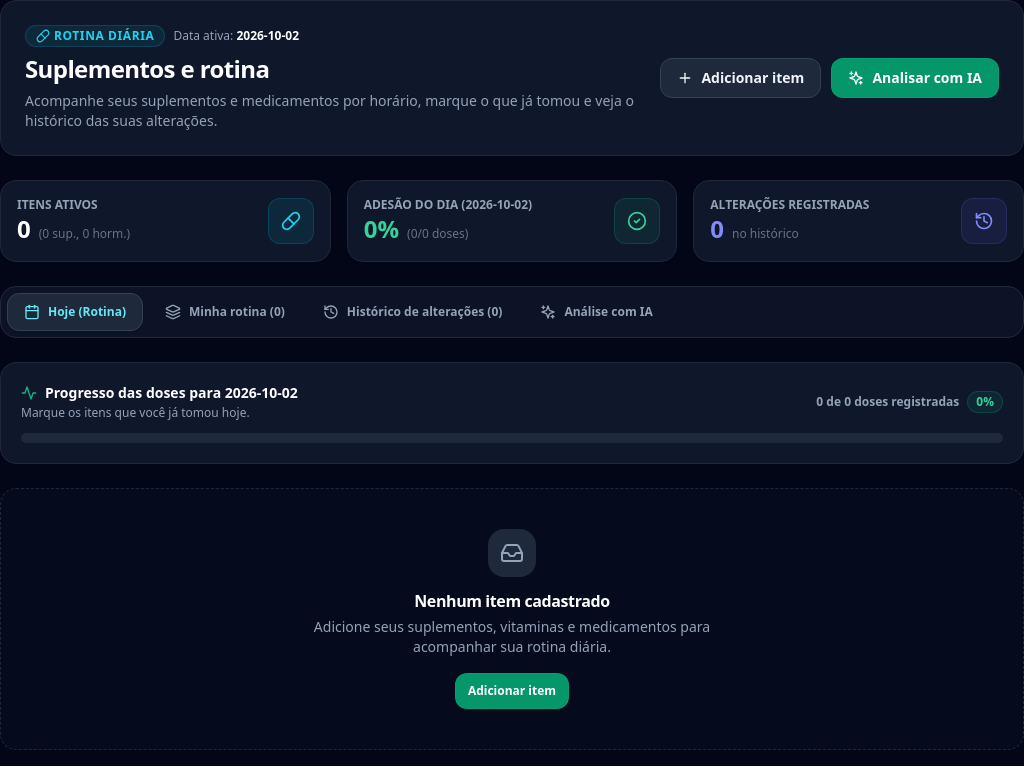
SupplementsView (UX-P1-19) › switches to Minha rotina tab, filters by category and search term
Click the button "Minha rotina (0)": (225, 312) [149,294,301,330]
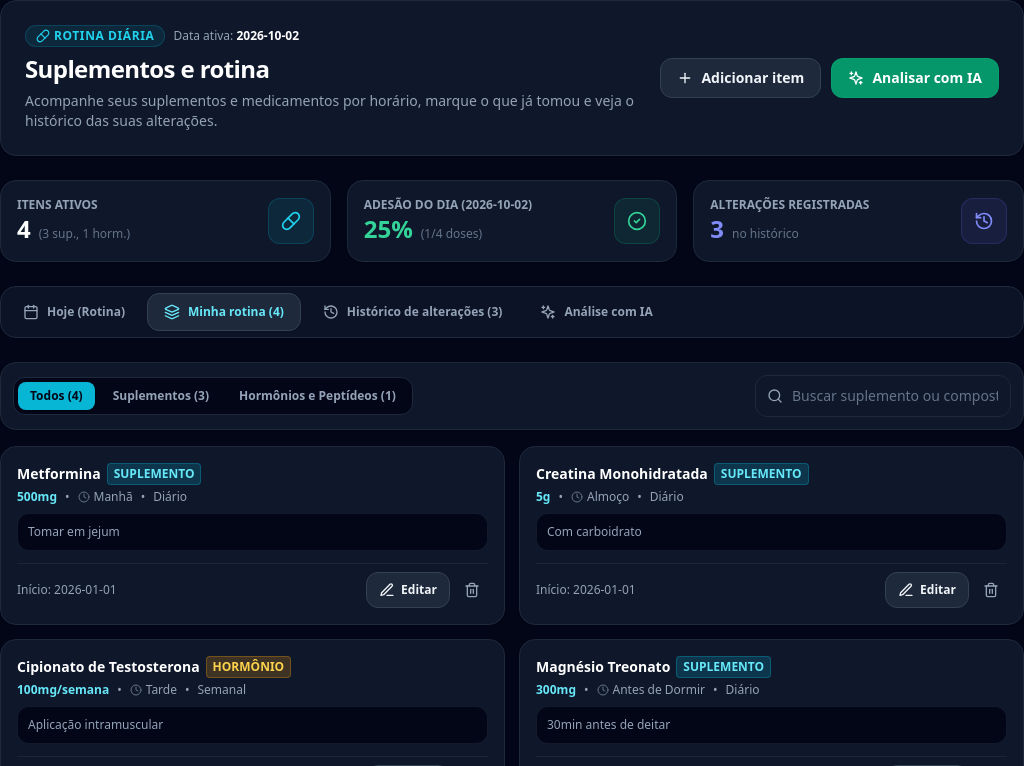
Expected: the field with placeholder "Buscar suplemento ou composto..." is shown, [755,375,1011,417]
Expected: the heading "Metformina" is shown, [17,464,101,484]
Expected: the heading "Cipionato de Testosterona" is shown, [17,657,200,677]
Filter by Hormônio
Click the button "Hormônios e Peptídeos (1)": (317, 396) [227,382,408,410]
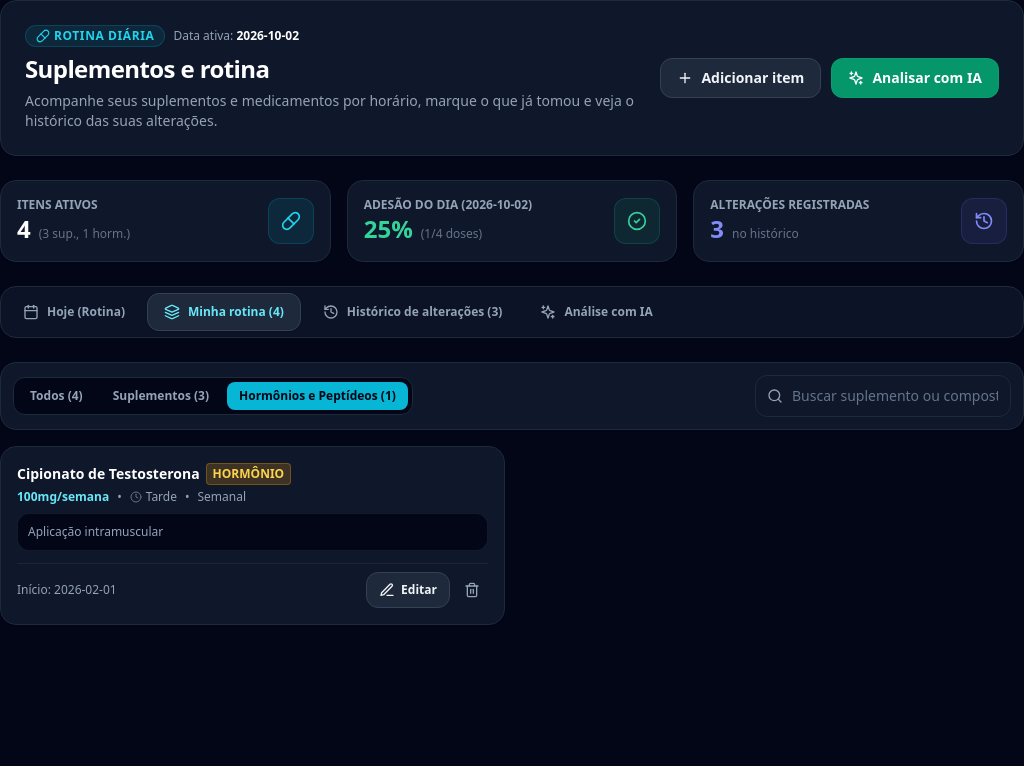
Expected: the heading "Cipionato de Testosterona" is shown, [17,464,200,484]
Expected: the heading "Metformina" is gone
Filter by search
Click the button "Todos (4)": (56, 396) [18,382,95,410]
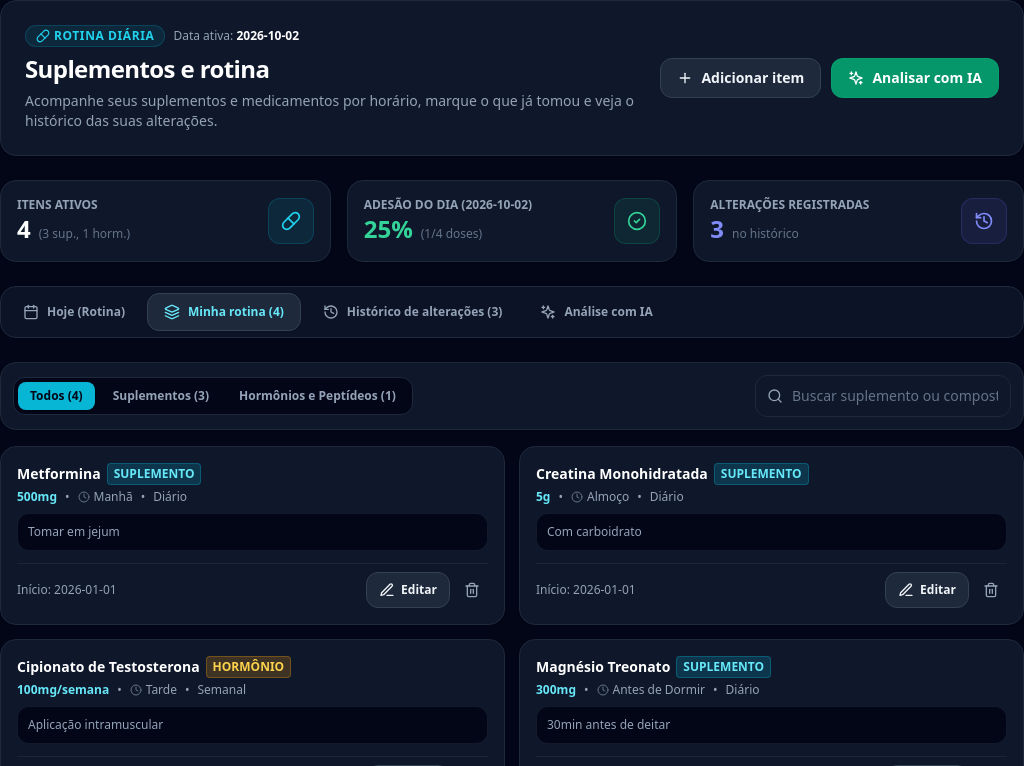
In the field with placeholder "Buscar suplemento ou composto...": (883, 396) [755,375,1011,417], type "Creatina"
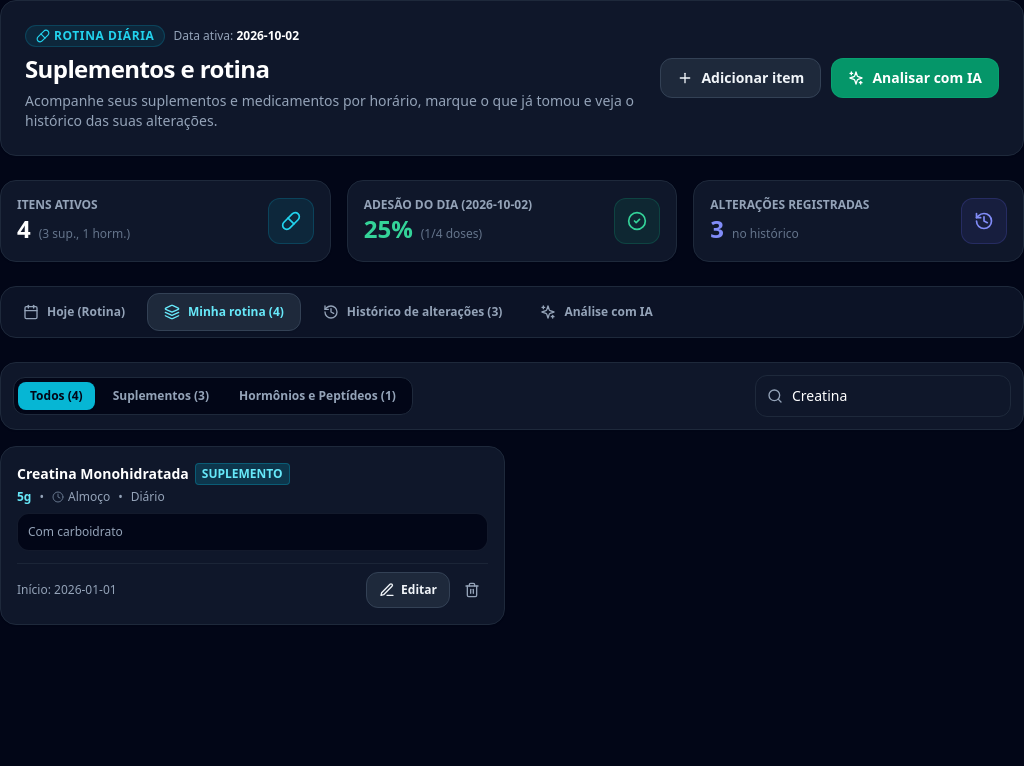
Expected: the heading "Creatina Monohidratada" is shown, [17,464,189,484]
Expected: the heading "Metformina" is gone
